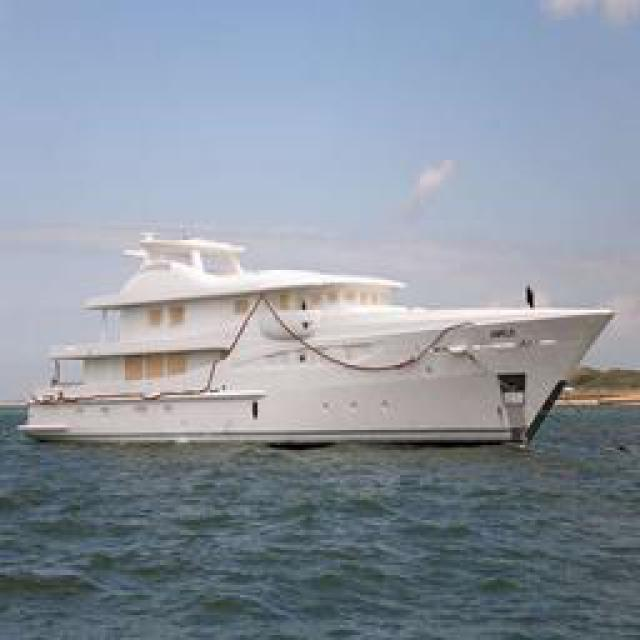Ship: (9, 246, 624, 446)
